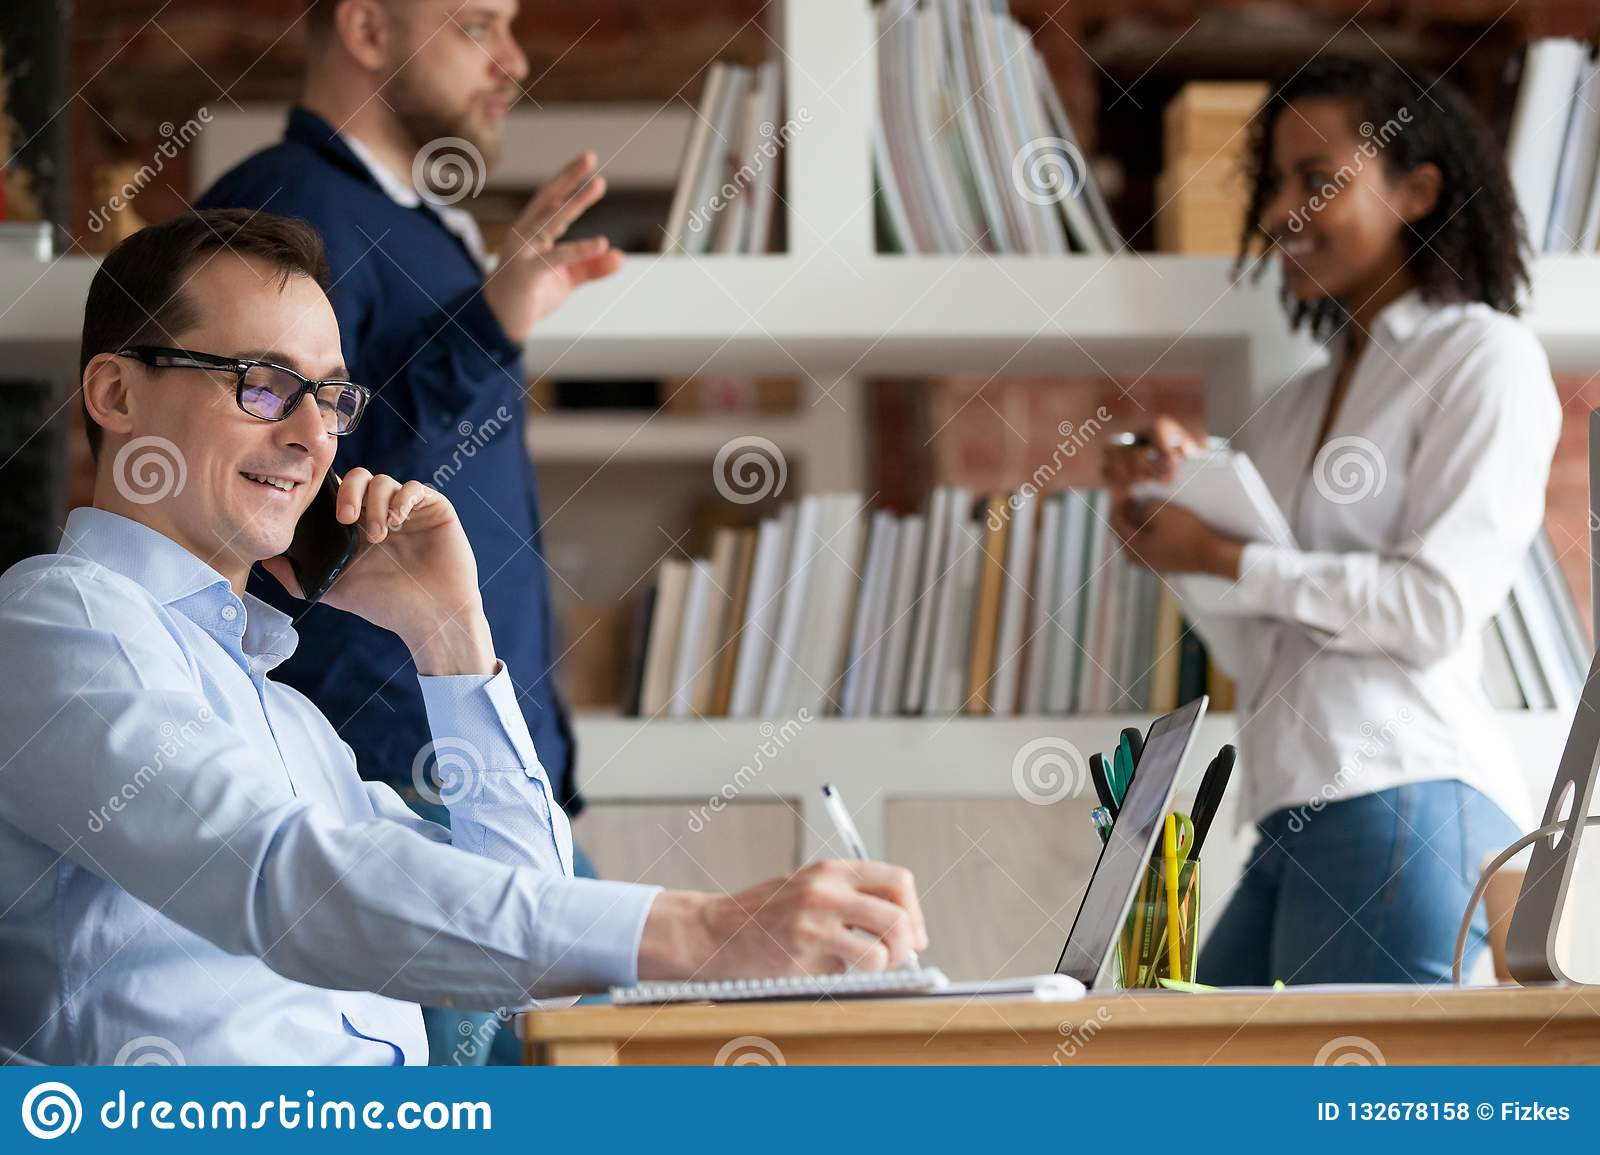phone: (281, 460, 365, 602)
talk: (202, 324, 486, 640)
